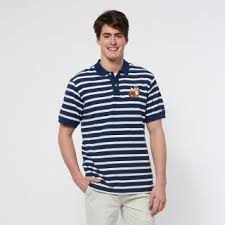S_polo shirt: (59, 55, 166, 194)
